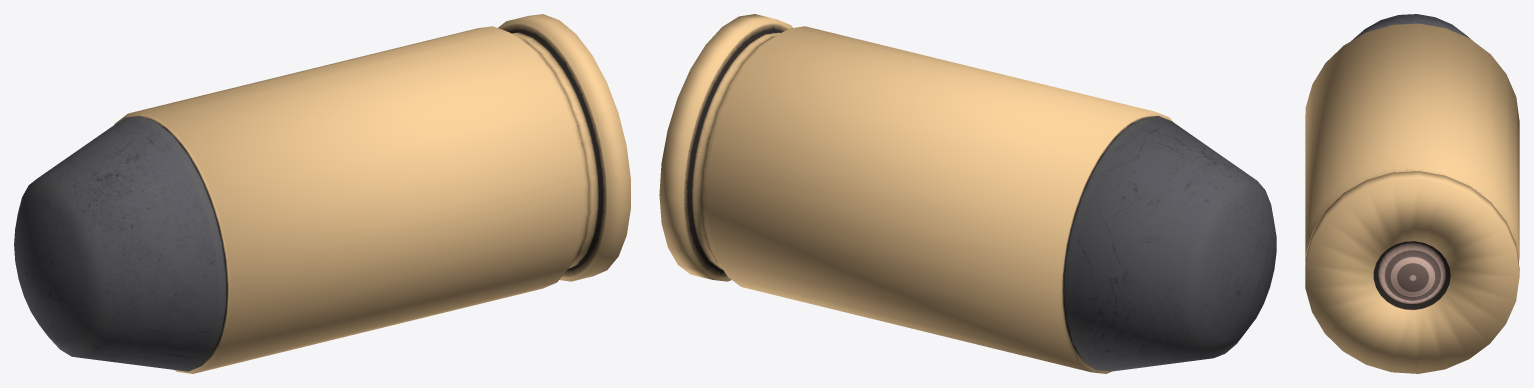
3 renders of one model, left to right at view 1: azimuth 30°, elevation 25°; view 2: azimuth 150°, elevation 25°; view 3: azimuth 270°, elevation 25°, orthographic. The views are drawn at different scales.
Parts seen in each view (by area): view 1: Bullet_low; view 2: Bullet_low; view 3: Bullet_low.
Boxes of the visible parts, x1,y1,x2,y2 form: Bullet_low: [14, 14, 630, 373]; Bullet_low: [659, 14, 1276, 373]; Bullet_low: [1305, 14, 1519, 373].
Bounding box in the file's own units: 229 × 99.8 × 99.63.
1 material, 1 textured.
